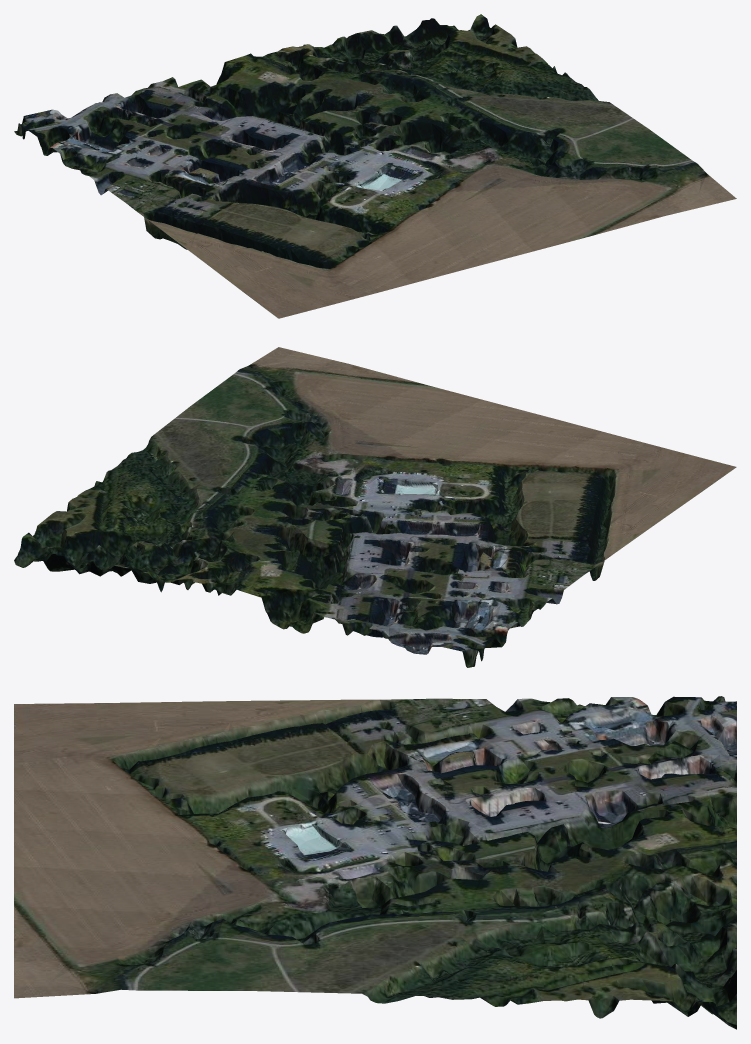
The model's file is map_12_1020_1723.dae.
3 renders of one model, top to bottom at view 1: azimuth 30°, elevation 25°; view 2: azimuth 150°, elevation 25°; view 3: azimuth 270°, elevation 25°, orthographic. The views are drawn at different scales.
Parts seen in each view (by area): view 1: Ter0; view 2: Ter0; view 3: Ter0.
Part boxes in pixels (x1,y1,x2,y2): Ter0: [14, 14, 736, 318]; Ter0: [14, 347, 736, 667]; Ter0: [14, 696, 736, 1029].
Bounding box in the file's own units: 511 × 511 × 38.14.
3 materials, 3 textured.
